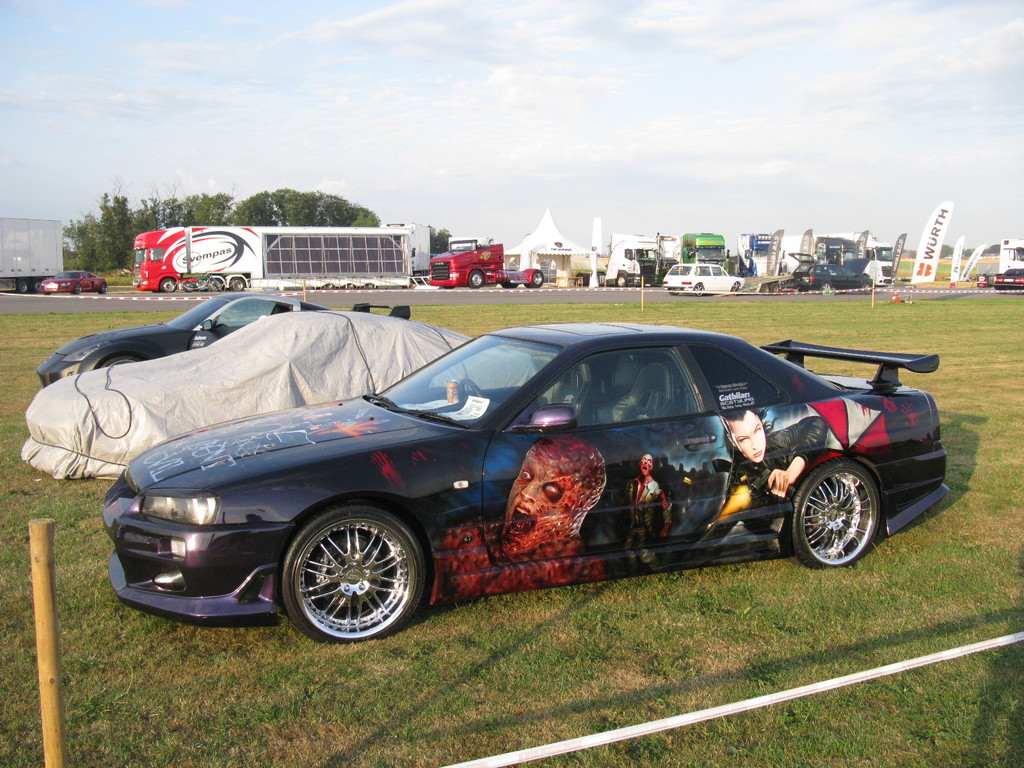cars: (101, 320, 948, 642), (37, 292, 409, 387), (788, 255, 873, 292), (663, 263, 743, 296), (39, 272, 107, 294), (993, 269, 1023, 292)
